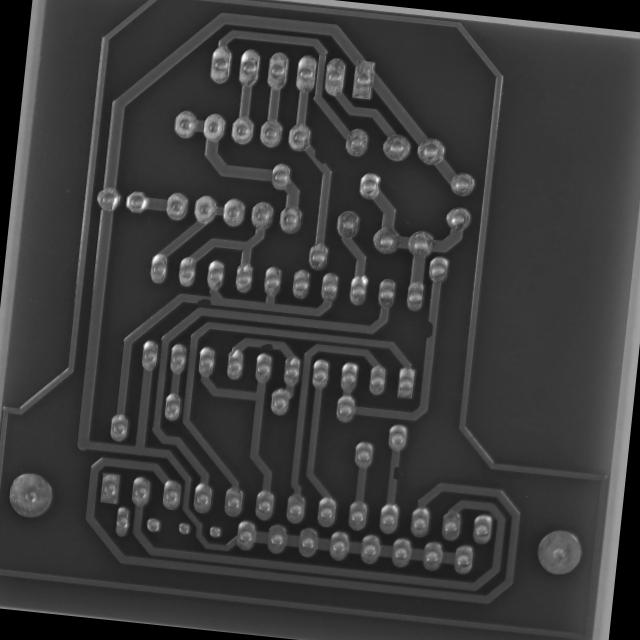mouse_bite: (307, 147, 331, 170), (422, 316, 439, 344), (190, 290, 214, 308), (385, 460, 403, 483), (256, 336, 276, 352)
